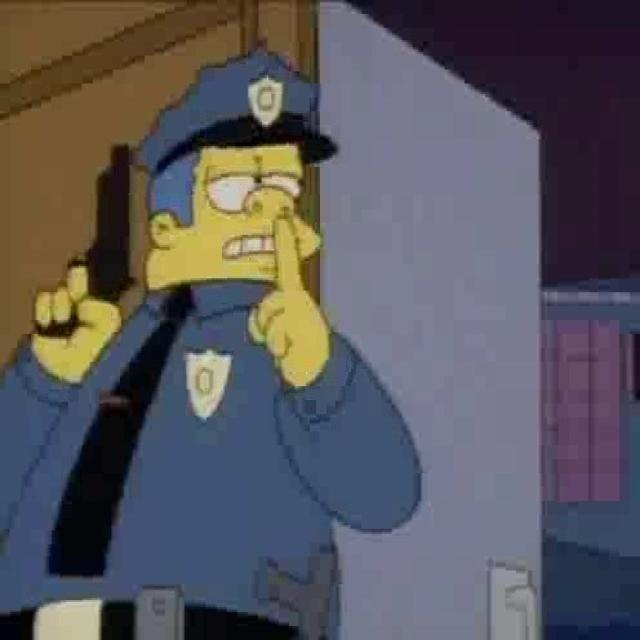Chief Wiggam: (130, 38, 342, 296)
